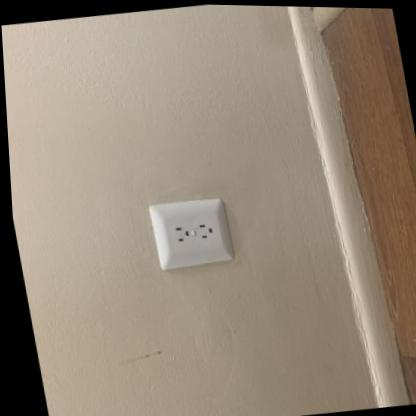OUTLET: (144, 191, 238, 271)
